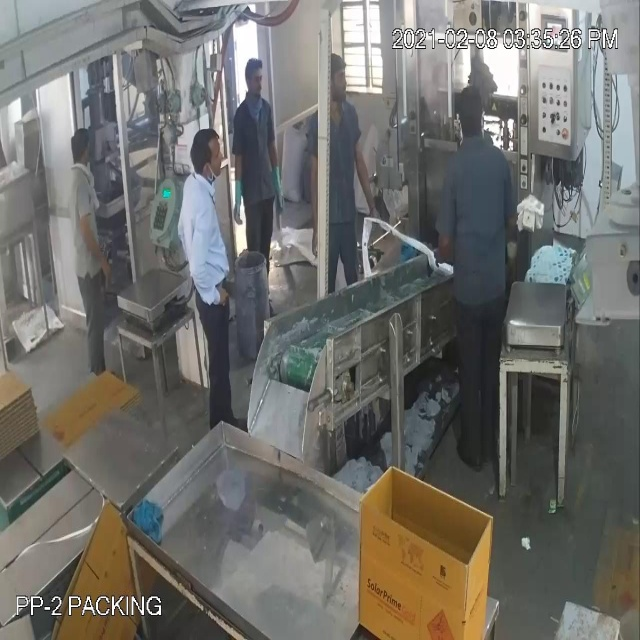Guantes: (224, 164, 252, 246), (261, 164, 289, 220)
Sin_guantes: (76, 193, 124, 293), (186, 211, 224, 322), (297, 143, 328, 271), (354, 132, 381, 228), (430, 225, 455, 274)
